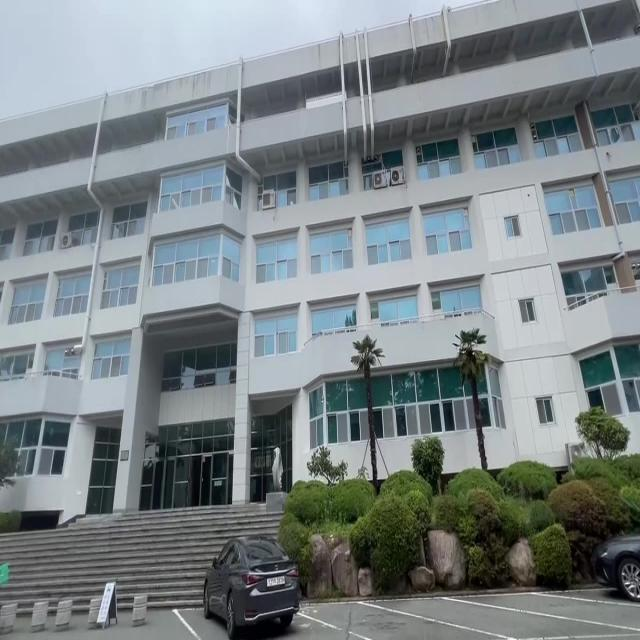building: (3, 12, 638, 448)
